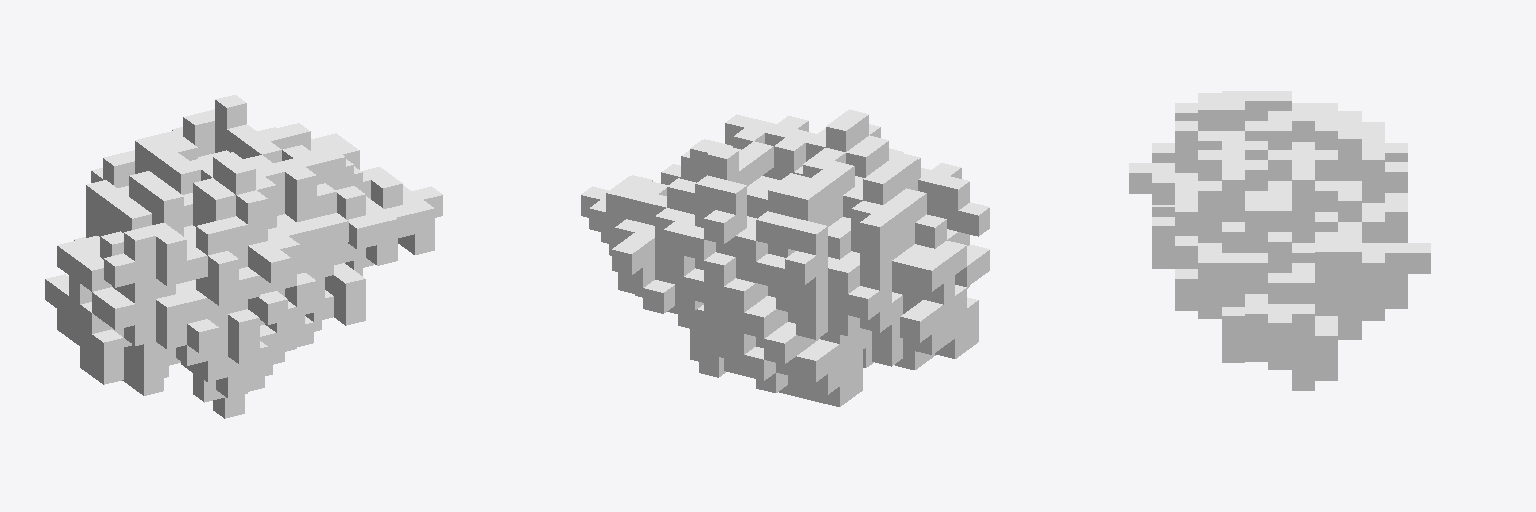
File: tiroamoeba.obj
The picture shows the model from 3 angles: view 1: azimuth 30°, elevation 25°; view 2: azimuth 150°, elevation 25°; view 3: azimuth 270°, elevation 25°; orthographic projection.
Size of the model in its own units: 18 by 12 by 13.